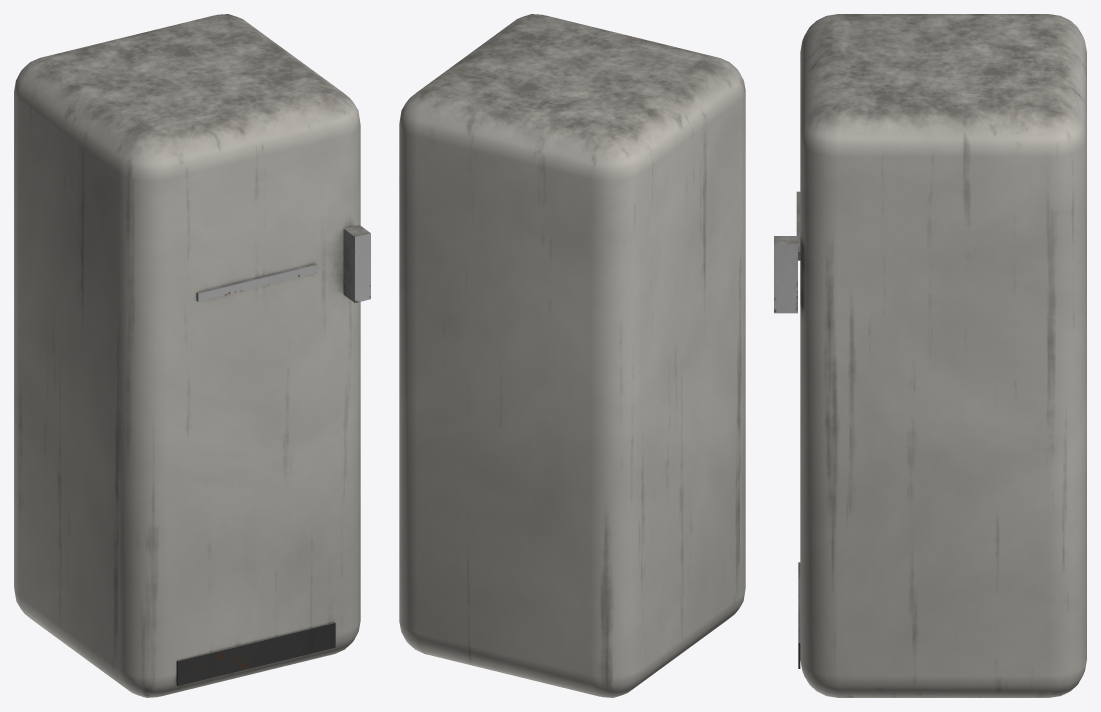
File: SM_Fridge_Soviet.fbx
3 renders of one model, left to right at view 1: azimuth 30°, elevation 25°; view 2: azimuth 150°, elevation 25°; view 3: azimuth 270°, elevation 25°, orthographic. The views are drawn at different scales.
Parts seen in each view (by area): view 1: SM_Fridge_Soviet; view 2: SM_Fridge_Soviet; view 3: SM_Fridge_Soviet.
Boxes of the visible parts, x1,y1,x2,y2 form: SM_Fridge_Soviet: [14, 14, 370, 697]; SM_Fridge_Soviet: [399, 14, 745, 697]; SM_Fridge_Soviet: [774, 14, 1086, 697].
Bounding box in the file's own units: 0.6 × 1.36 × 0.655.
Materials: 1 (1 with a texture image).
